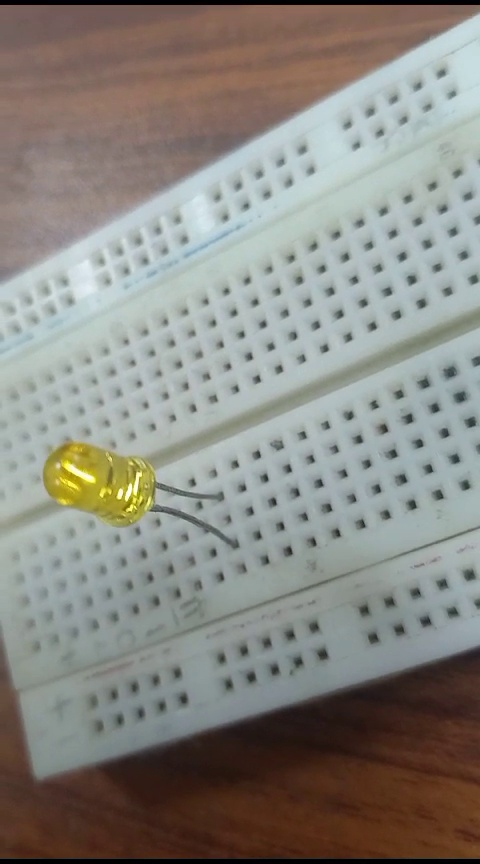LED: (19, 432, 231, 551)
